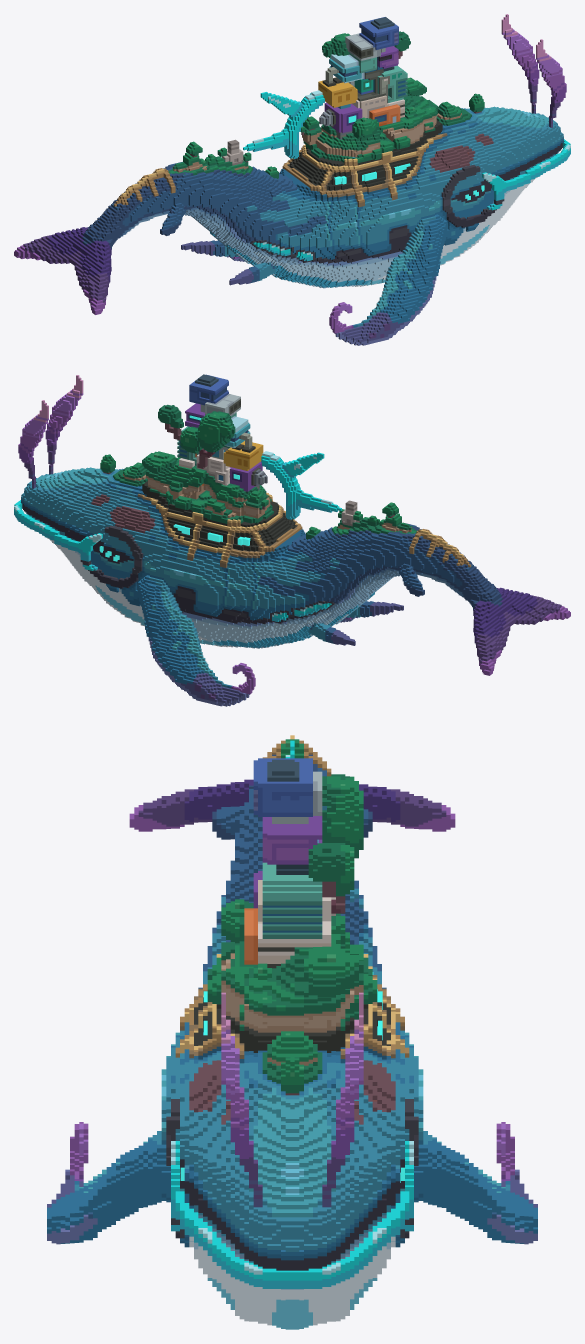
Rendered from 鲸鱼星球.glb.
The picture shows the model from 3 angles, top to bottom: view 1: azimuth 30°, elevation 25°; view 2: azimuth 150°, elevation 25°; view 3: azimuth 270°, elevation 25°; orthographic projection. The views are drawn at different scales.
Parts seen in each view (by area): view 1: 鲸鱼星球, 鲸鱼星球-发光; view 2: 鲸鱼星球, 鲸鱼星球-发光; view 3: 鲸鱼星球.
Part boxes in pixels (<box>): 鲸鱼星球: <box>14,14,570,345</box>; 鲸鱼星球-发光: <box>334,82,484,200</box>; 鲸鱼星球: <box>14,374,570,706</box>; 鲸鱼星球-发光: <box>99,415,250,561</box>; 鲸鱼星球: <box>47,735,537,1329</box>.
Size of the model in its own units: 25.6 by 12.7 by 10.7.
Materials: 2 (2 with a texture image).
